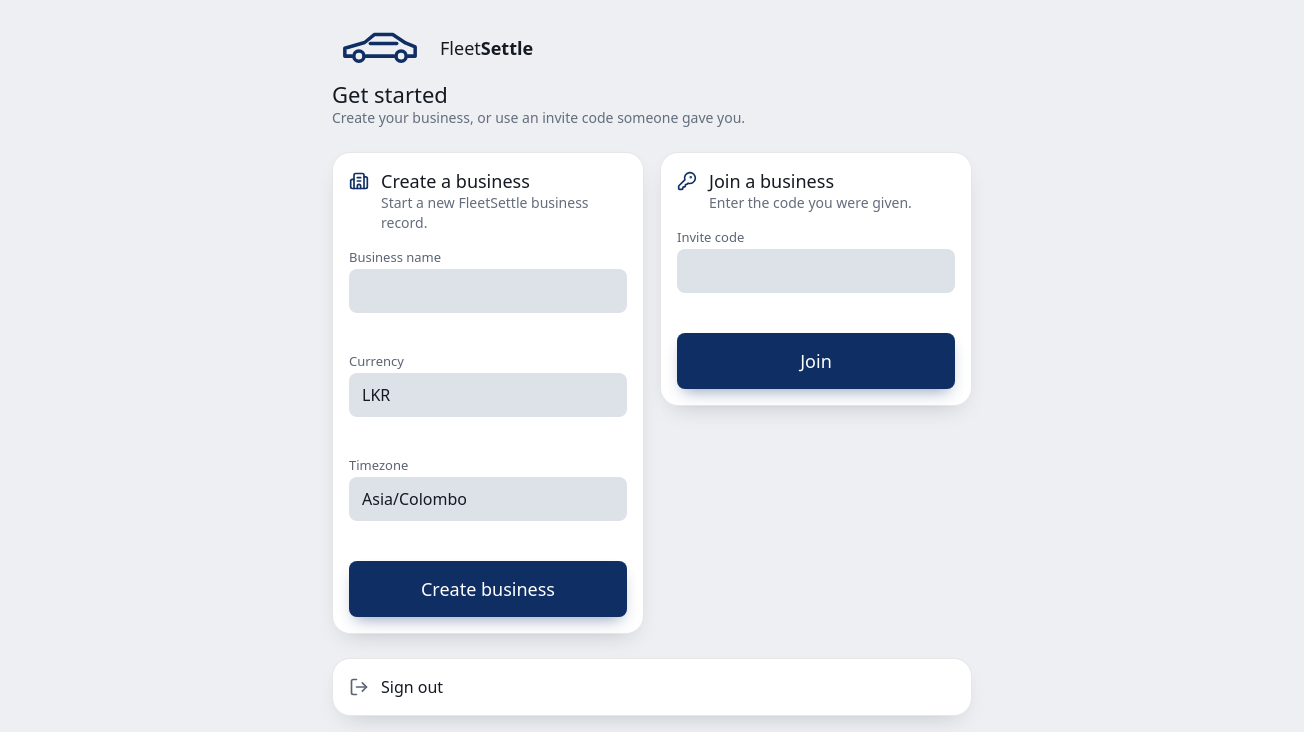
Scenario: creating a business from the first-run gate replaces it with the operate shell
In the field labelled "Business name": (488, 291) top-left (349, 269), bottom-right (627, 313), type "Test Fleet"
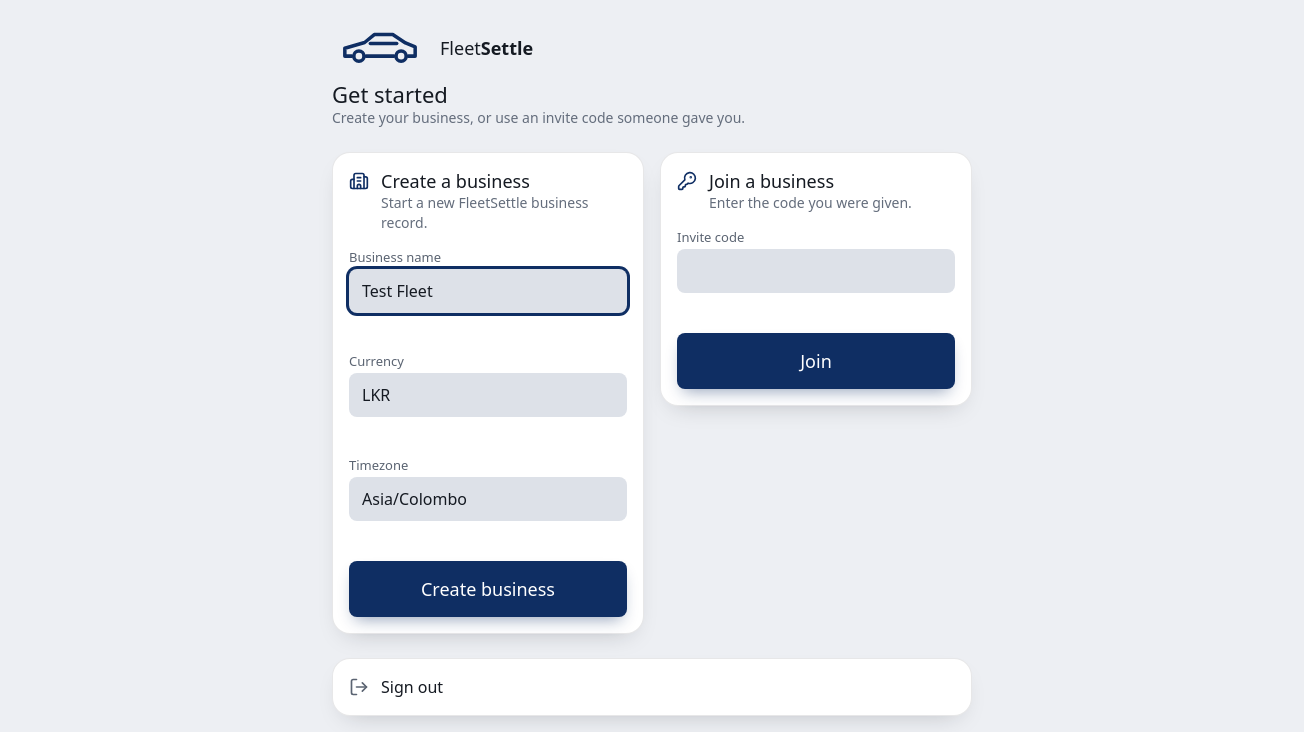
Click the button "Create business": click(488, 589) top-left (349, 561), bottom-right (627, 617)
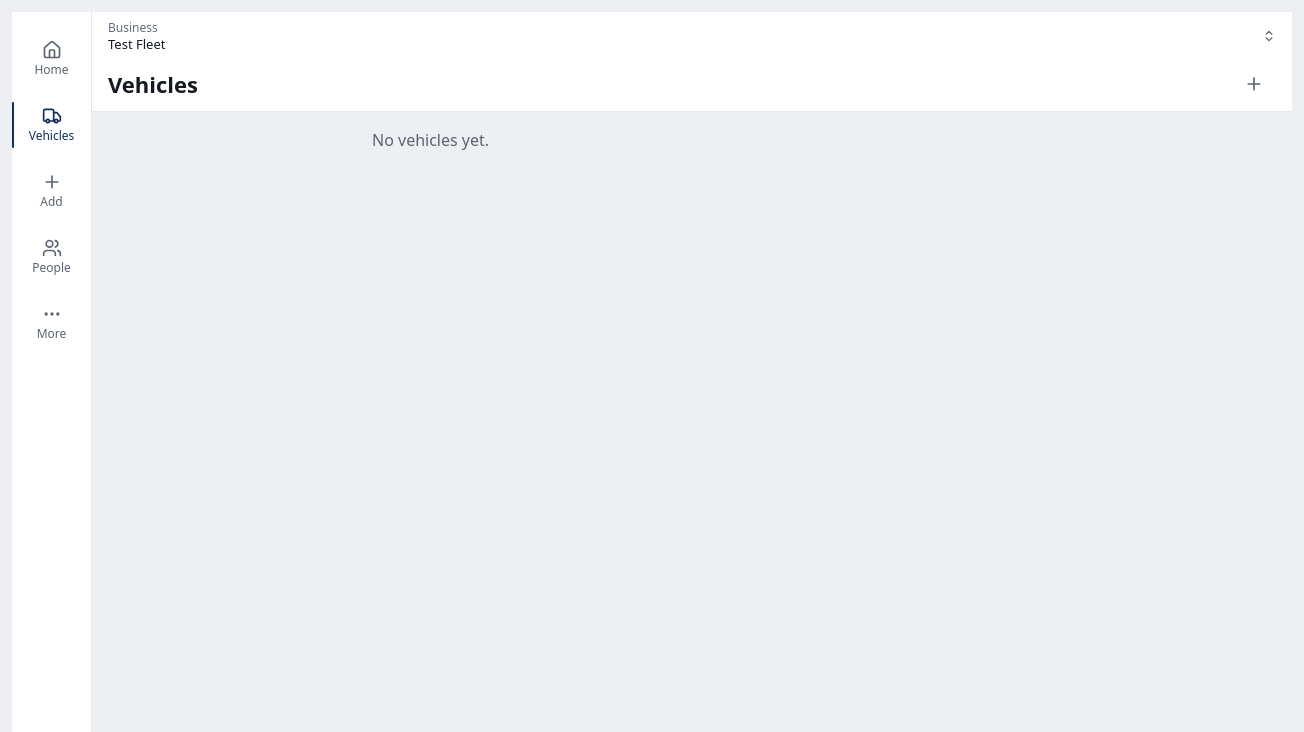
Result: the text "No vehicles yet." is shown at top-left (372, 129), bottom-right (489, 151)
